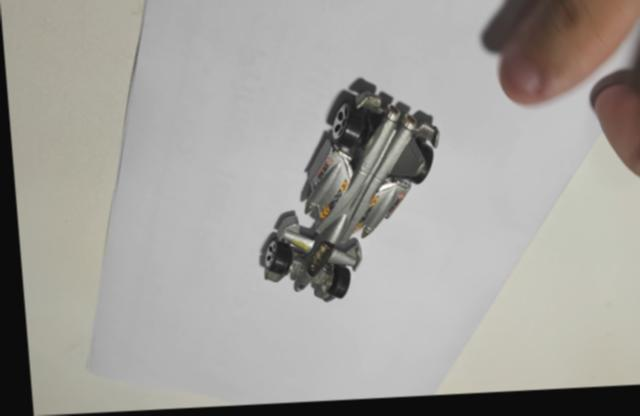05_DC121: (254, 81, 437, 304)
